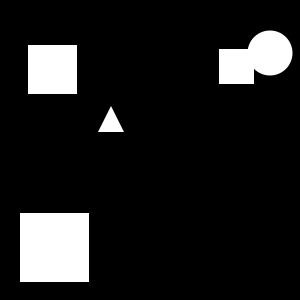circle: (20, 213, 89, 282), (28, 45, 77, 94), (219, 49, 254, 84)
rectangle: (248, 30, 292, 76)
triangle: (98, 106, 124, 132)
